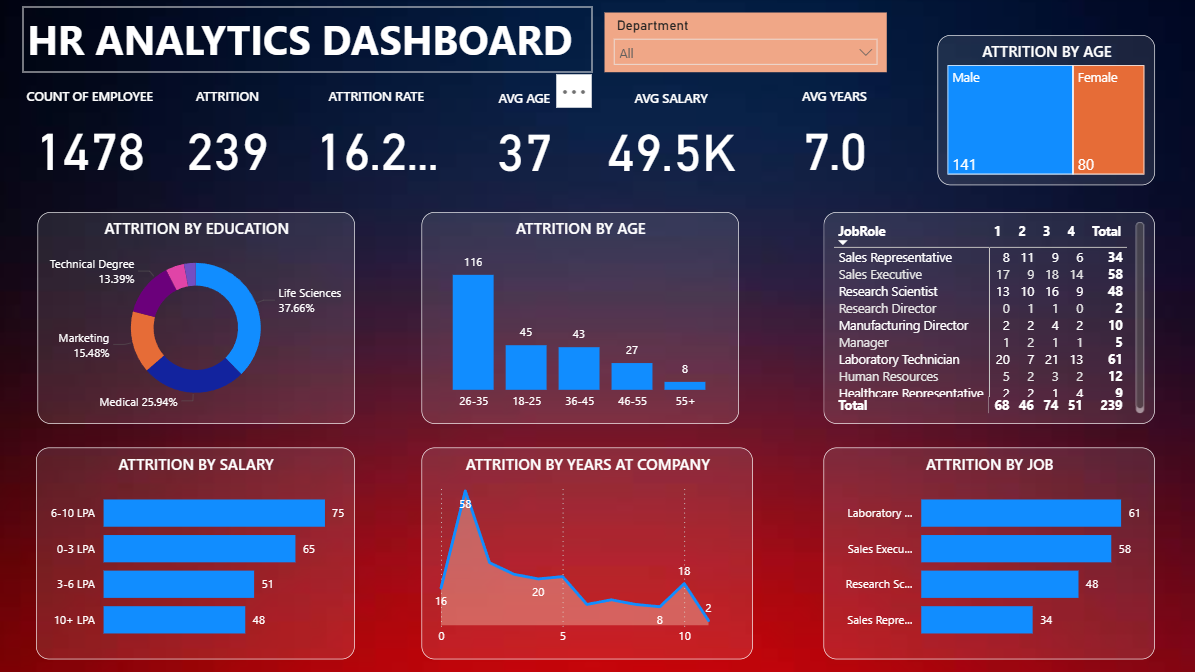

What the dashboard file says about the page in this screenshot:
{"tool":"powerbi","page":{"name":"Page 1","canvas":[1280,720],"ordinal":0},"visuals":[{"type":"card","title":"COUNT OF EMPLOYEE","fields":{"Values":["Sum(HR_Analytics-4.EmployeeCount)"]},"box":[24.7,97.1,145.5,103.9],"z":0},{"type":"card","title":"ATTRITION","fields":{"Values":["Sum(HR_Analytics-4.Attritioncount)"]},"box":[179.6,97.1,128.5,103.9],"z":1000},{"type":"card","title":"AVG YEARS","fields":{"Values":["Avg(HR_Analytics-4.YearsatCompany)"]},"box":[825.9,97.1,124.7,103.9],"z":2000},{"type":"card","title":"AVG AGE","fields":{"Values":["Avg(HR_Analytics-4.Age)"]},"box":[499,99,119.1,103.9],"z":3000},{"type":"card","title":"AVG SALARY","fields":{"Values":["Avg(HR_Analytics-4.MonthlyIncome)"]},"box":[637,99,156.9,103.9],"z":4000},{"type":"card","title":"ATTRITION RATE","fields":{"Values":["HR_Analytics-4.Attrition rate"]},"box":[328.9,97.1,145.5,103.9],"z":5000},{"type":"donutChart","title":"ATTRITION BY EDUCATION","fields":{"Category":["HR_Analytics-4.EducationField"],"Y":["Sum(HR_Analytics-4.Attritioncount)"]},"box":[43.6,229.4,336.4,224.9],"z":6000},{"type":"columnChart","title":"ATTRITION BY AGE","fields":{"Category":["HR_Analytics-4.AgeGroup"],"Y":["Sum(HR_Analytics-4.Attritioncount)"]},"box":[449.9,229.4,336.4,224.9],"z":7000},{"type":"pivotTable","fields":{"Rows":["HR_Analytics-4.JobRole"],"Columns":["HR_Analytics-4.JobSatisfaction"],"Values":["Sum(HR_Analytics-4.Attritioncount)"]},"box":[877,229.4,351.5,224.9],"z":8000},{"type":"clusteredBarChart","title":"ATTRITION BY SALARY","fields":{"Category":["HR_Analytics-4.SalarySlab"],"Y":["Sum(HR_Analytics-4.Attritioncount)"]},"box":[41.7,478.8,338.3,224.9],"z":9000},{"type":"clusteredBarChart","title":"ATTRITION BY JOB","fields":{"Category":["HR_Analytics-4.JobRole"],"Y":["Sum(HR_Analytics-4.Attritioncount)"]},"box":[877,478.8,351.5,224.9],"z":10000},{"type":"areaChart","title":"ATTRITION BY YEARS AT COMPANY","fields":{"Category":["HR_Analytics-4.YearsatCompany"],"Y":["Sum(HR_Analytics-4.Attritioncount)"]},"box":[449.9,478.8,351.5,224.9],"z":11000},{"type":"treemap","title":"ATTRITION BY AGE","fields":{"Group":["HR_Analytics-4.Gender"],"Values":["Sum(HR_Analytics-4.Attritioncount)"]},"box":[997.3,41.4,230.6,159.1],"z":12000},{"type":"slicer","fields":{"Values":["HR_Analytics-4.Department"]},"box":[644.2,17.5,299,63.6],"z":13000},{"type":"textbox","box":[27,11.1,604.4,70],"z":14001}]}

Visuals, with their boxes in screenshot pixels (x1, y1, x2, y2), scaled from the page's 1280x720 canvas onto the 1195x672 screenshot:
"COUNT OF EMPLOYEE" card: select_region(23, 91, 159, 188)
"ATTRITION" card: select_region(168, 91, 288, 188)
"AVG YEARS" card: select_region(771, 91, 887, 188)
"AVG AGE" card: select_region(466, 92, 577, 189)
"AVG SALARY" card: select_region(595, 92, 741, 189)
"ATTRITION RATE" card: select_region(307, 91, 443, 188)
"ATTRITION BY EDUCATION" donutChart: select_region(41, 214, 355, 424)
"ATTRITION BY AGE" columnChart: select_region(420, 214, 734, 424)
pivotTable - HR_Analytics-4.JobRole x HR_Analytics-4.JobSatisfaction: select_region(819, 214, 1147, 424)
"ATTRITION BY SALARY" clusteredBarChart: select_region(39, 447, 355, 657)
"ATTRITION BY JOB" clusteredBarChart: select_region(819, 447, 1147, 657)
"ATTRITION BY YEARS AT COMPANY" areaChart: select_region(420, 447, 748, 657)
"ATTRITION BY AGE" treemap: select_region(931, 39, 1146, 187)
slicer - HR_Analytics-4.Department: select_region(601, 16, 881, 76)
textbox: select_region(25, 10, 589, 76)
